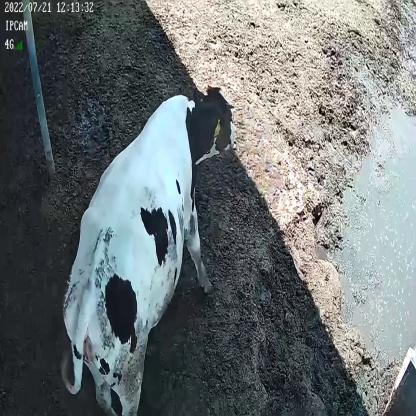cow: (56, 83, 238, 416)
